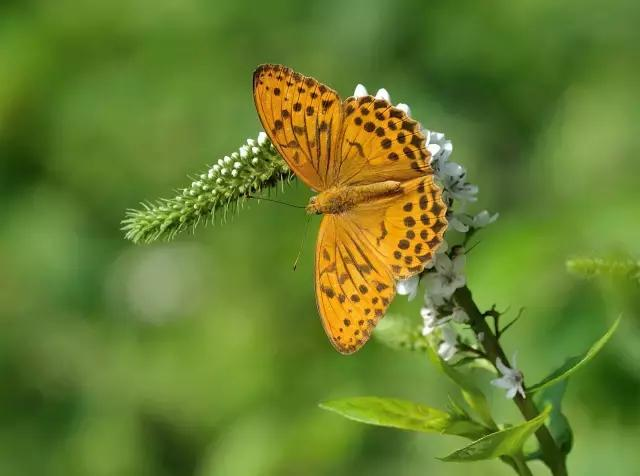Argyreus hyperbius: (244, 56, 449, 358)
butterfly: (246, 58, 451, 360)
